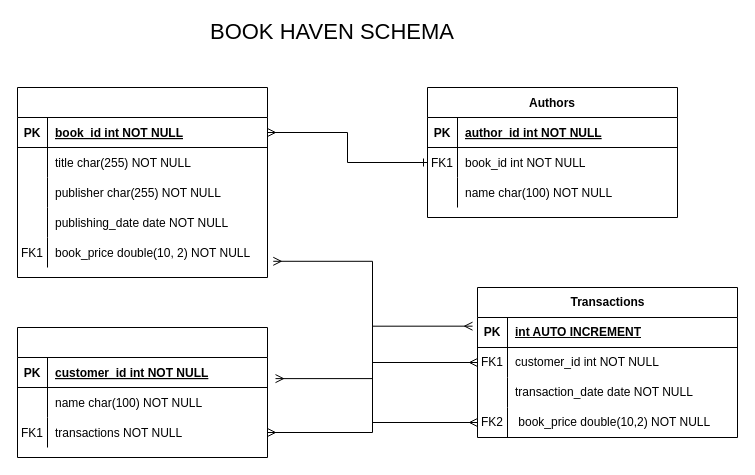
This 755x475 diagram has some shape labels left out. Each missing label, with the box of its shape:
Books: (16, 86, 268, 278)
Customers: (16, 326, 268, 458)
